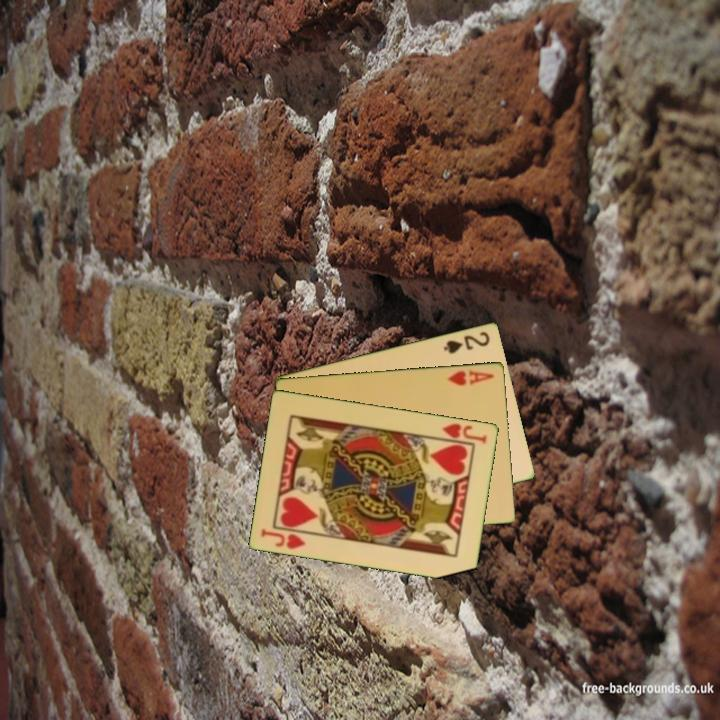2s: (440, 328, 493, 356)
Ah: (444, 366, 497, 388)
Jh: (258, 525, 308, 552), (439, 420, 490, 446)
